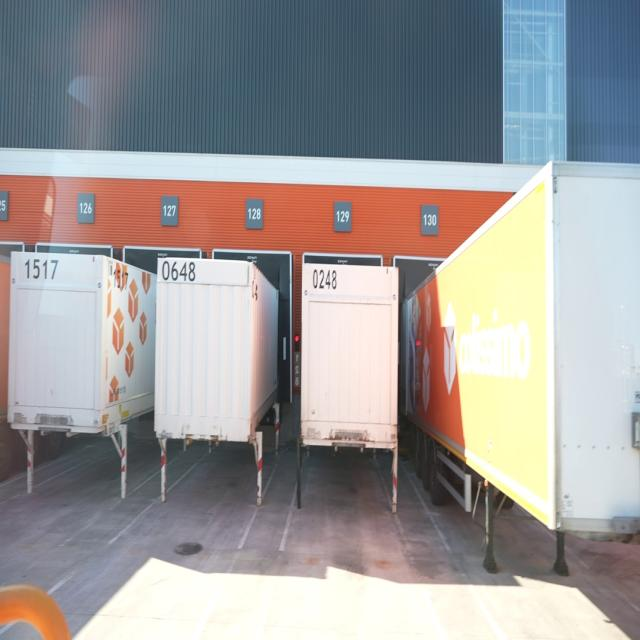Code: (20, 254, 62, 290), (158, 257, 199, 289), (309, 266, 338, 292)
